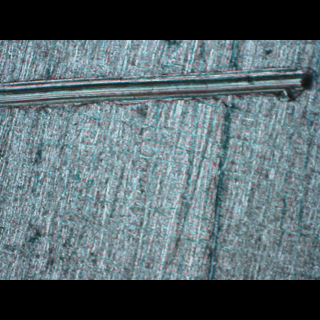d: (0, 61, 317, 118)
